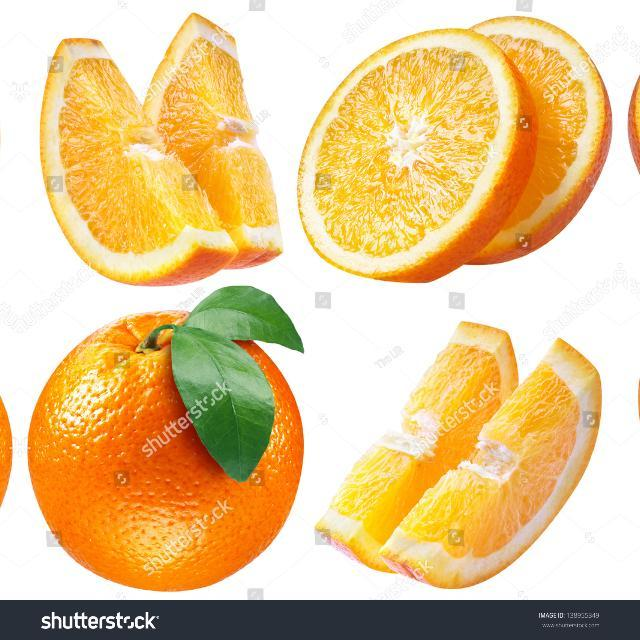Orange: (26, 309, 304, 591), (295, 26, 537, 283), (378, 336, 602, 589), (314, 319, 518, 574), (38, 35, 238, 286), (461, 14, 612, 265), (0, 325, 12, 582)
